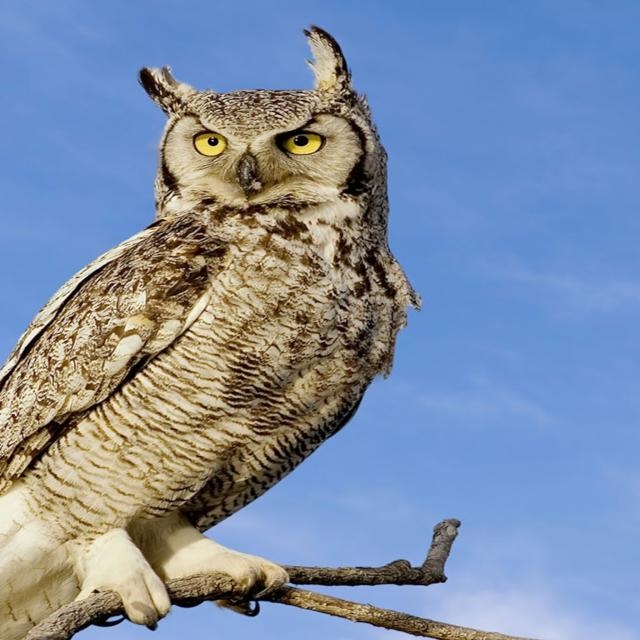Owl: (0, 11, 429, 631)
